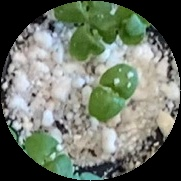Basil: (91, 63, 135, 119), (65, 16, 119, 59), (25, 135, 73, 175), (114, 8, 147, 45), (52, 0, 112, 20)
